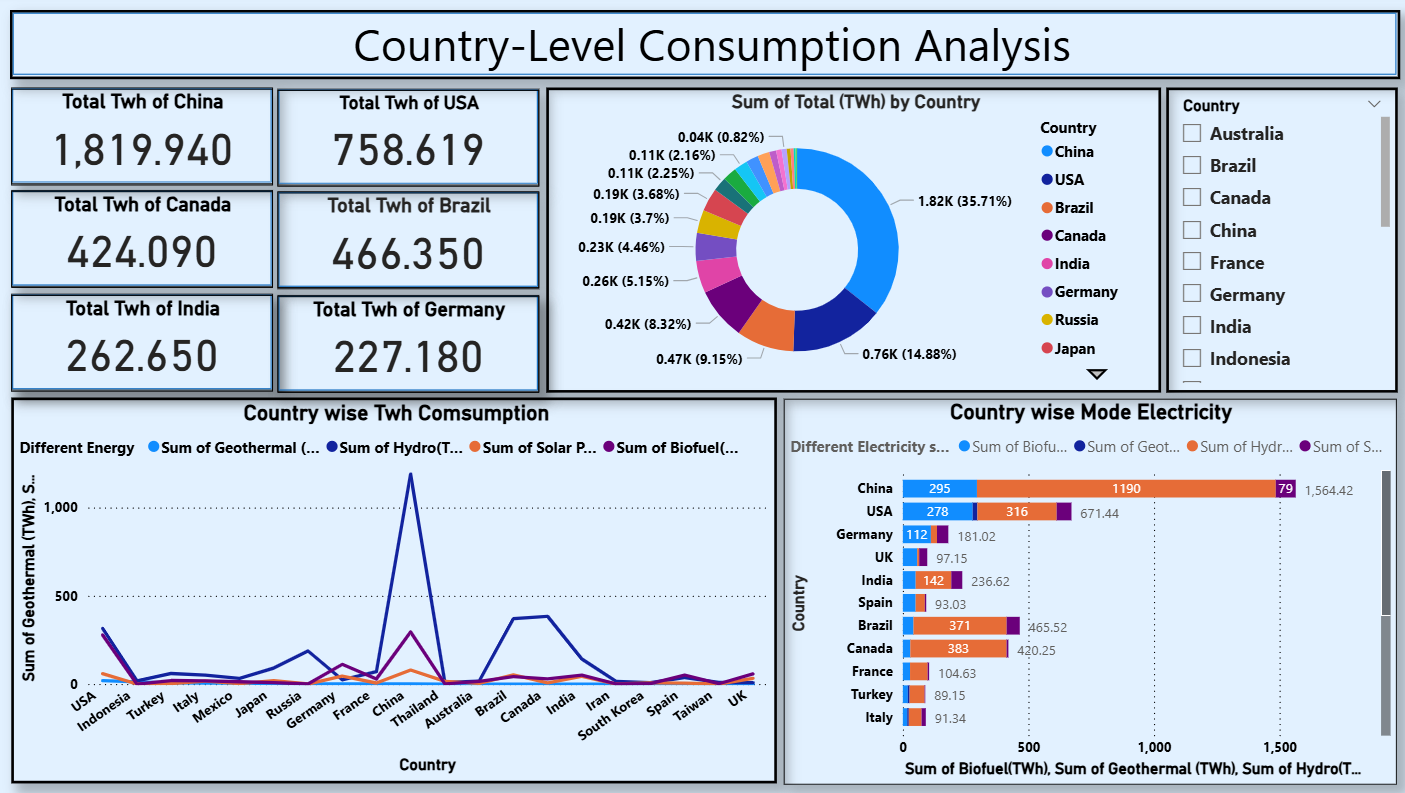

The page's visual inventory and layout, read from the dashboard file:
{"tool":"powerbi","page":{"name":"Country  Level  consumption Analysis ","canvas":[1280,720],"ordinal":3},"visuals":[{"type":"shape","box":[13,13,1253.8,62],"z":0},{"type":"group","id":"g1","title":"Group 5","box":[14.9,83.7,236,88.9],"z":0,"group":"g3"},{"type":"shape","box":[14.9,83.7,236,87],"z":0,"group":"g1"},{"type":"group","id":"g2","title":"Group 5","box":[255.2,84.3,236,88.9],"z":0,"group":"g6"},{"type":"shape","box":[255.2,84.3,236,87],"z":0,"group":"g2"},{"type":"shape","box":[14.9,176.4,236,87.4],"z":0,"group":"g4"},{"type":"shape","box":[255.2,177,236,87.4],"z":0,"group":"g5"},{"type":"shape","box":[14.9,269.9,236,87.4],"z":0,"group":"g7"},{"type":"shape","box":[255.2,270.5,236,87.4],"z":0,"group":"g8"},{"type":"group","id":"g3","title":"Group 8","box":[14.9,83.7,236.6,275.6],"z":1000},{"type":"card","title":"Total Twh of China","fields":{"Values":["top20CountriesPowerGeneration.Total of china(Twh)"]},"box":[14.9,85.2,236,87.4],"z":1000,"group":"g1"},{"type":"card","title":"Total Twh of USA","fields":{"Values":["top20CountriesPowerGeneration.Total USA(Twh)"]},"box":[255.2,85.8,236,87.4],"z":1000,"group":"g2"},{"type":"group","id":"g4","title":"Group 6","box":[14.9,176.4,236,89.1],"z":1000,"group":"g3"},{"type":"group","id":"g5","title":"Group 6","box":[255.2,177,236,89.1],"z":1000,"group":"g6"},{"type":"card","title":"Total Twh of Canada","fields":{"Values":["top20CountriesPowerGeneration.Total Canada(Twh)"]},"box":[14.9,178,235.9,87.5],"z":1000,"group":"g4"},{"type":"card","title":"Total  Twh of Brazil","fields":{"Values":["top20CountriesPowerGeneration.Total Brazil(Twh)"]},"box":[255.2,178.6,235.9,87.5],"z":1000,"group":"g5"},{"type":"card","title":"Total Twh of India","fields":{"Values":["top20CountriesPowerGeneration.Total India(Twh)"]},"box":[15,271.5,235.9,87.5],"z":1000,"group":"g7"},{"type":"card","title":"Total Twh of Germany","fields":{"Values":["top20CountriesPowerGeneration.Total Germany(twh)"]},"box":[255.3,272.1,235.9,87.5],"z":1000,"group":"g8"},{"type":"group","id":"g6","title":"Group 8","box":[255.2,84.3,236.6,275.6],"z":2000},{"type":"group","id":"g7","title":"Group 7","box":[14.9,269.9,236,89.1],"z":2000,"group":"g3"},{"type":"group","id":"g8","title":"Group 7","box":[255.2,270.5,236,89.1],"z":2000,"group":"g6"},{"type":"donutChart","fields":{"Y":["Sum(top20CountriesPowerGeneration.Total (TWh))"],"Category":["top20CountriesPowerGeneration.Country"]},"box":[497,83.7,554,275],"z":3000},{"type":"slicer","fields":{"Values":["top20CountriesPowerGeneration.Country"]},"box":[1056,83.7,209,275],"z":4000},{"type":"lineChart","title":"Country wise Twh Comsumption ","fields":{"Category":["top20CountriesPowerGeneration.Country"],"Y":["Sum(top20CountriesPowerGeneration.Geothermal (TWh))","Sum(top20CountriesPowerGeneration.Hydro(TWh))","Sum(top20CountriesPowerGeneration.Solar PV (TWh))","Sum(top20CountriesPowerGeneration.Biofuel(TWh))"]},"box":[14.4,363,690,347.7],"z":5000},{"type":"barChart","title":"Country wise Mode Electricity ","fields":{"Category":["top20CountriesPowerGeneration.Country"],"Y":["Sum(top20CountriesPowerGeneration.Biofuel(TWh))","Sum(top20CountriesPowerGeneration.Geothermal (TWh))","Sum(top20CountriesPowerGeneration.Hydro(TWh))","Sum(top20CountriesPowerGeneration.Solar PV (TWh))"]},"box":[711,363.6,553,347.7],"z":6000}]}

Visuals, with their boxes in screenshot pixels (x1, y1, x2, y2), scaled from the page's 1280x720 canvas onto the 1405x793 screenshot:
shape: region(14, 14, 1391, 83)
"Group 5" group: region(16, 92, 275, 190)
shape: region(16, 92, 275, 188)
"Group 5" group: region(280, 93, 539, 191)
shape: region(280, 93, 539, 189)
shape: region(16, 194, 275, 291)
shape: region(280, 195, 539, 291)
shape: region(16, 297, 275, 394)
shape: region(280, 298, 539, 394)
"Group 8" group: region(16, 92, 276, 396)
"Total Twh of China" card: region(16, 94, 275, 190)
"Total Twh of USA" card: region(280, 94, 539, 191)
"Group 6" group: region(16, 194, 275, 292)
"Group 6" group: region(280, 195, 539, 293)
"Total Twh of Canada" card: region(16, 196, 275, 292)
"Total  Twh of Brazil" card: region(280, 197, 539, 293)
"Total Twh of India" card: region(16, 299, 275, 395)
"Total Twh of Germany" card: region(280, 300, 539, 396)
"Group 8" group: region(280, 93, 540, 396)
"Group 7" group: region(16, 297, 275, 395)
"Group 7" group: region(280, 298, 539, 396)
donutChart - Sum(top20CountriesPowerGeneration.Total (TWh)) x top20CountriesPowerGeneration.Country: region(546, 92, 1154, 395)
slicer - top20CountriesPowerGeneration.Country: region(1159, 92, 1389, 395)
"Country wise Twh Comsumption " lineChart: region(16, 400, 773, 783)
"Country wise Mode Electricity " barChart: region(780, 400, 1387, 783)
